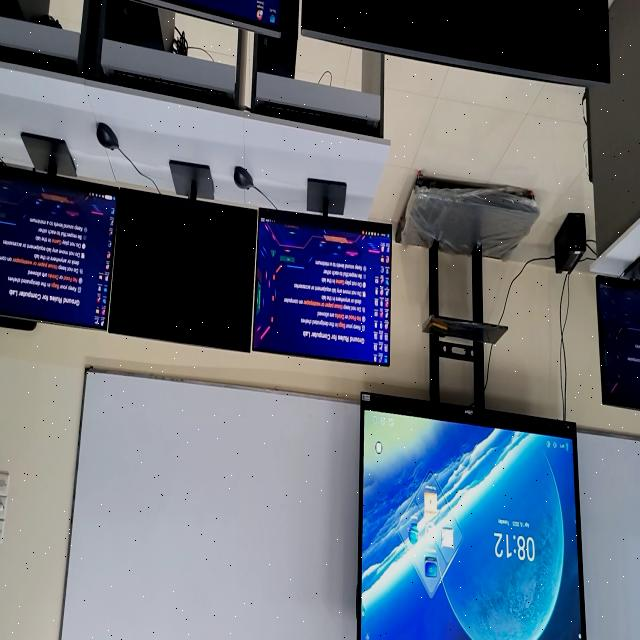Digital board: (357, 393, 587, 640)
Monitor: (302, 0, 610, 87), (109, 190, 257, 352), (253, 210, 391, 367), (0, 168, 117, 329), (597, 276, 640, 412), (131, 0, 282, 38)
Mouse: (97, 123, 119, 150), (234, 167, 254, 190)
